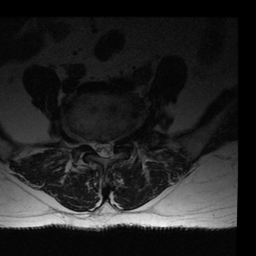CCS_stenosis: (101, 134, 107, 161)
LFS_stenosis: (114, 128, 122, 146)
LLS_normal: (107, 135, 114, 160)
RFS_stenosis: (84, 131, 93, 153)
RLS_normal: (92, 134, 101, 158)
